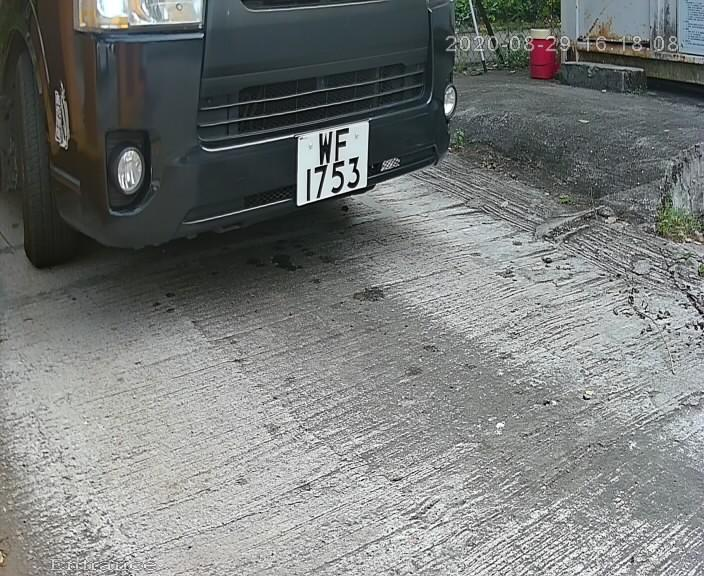Car: (13, 1, 522, 312)
License Plate: (280, 114, 378, 209)
